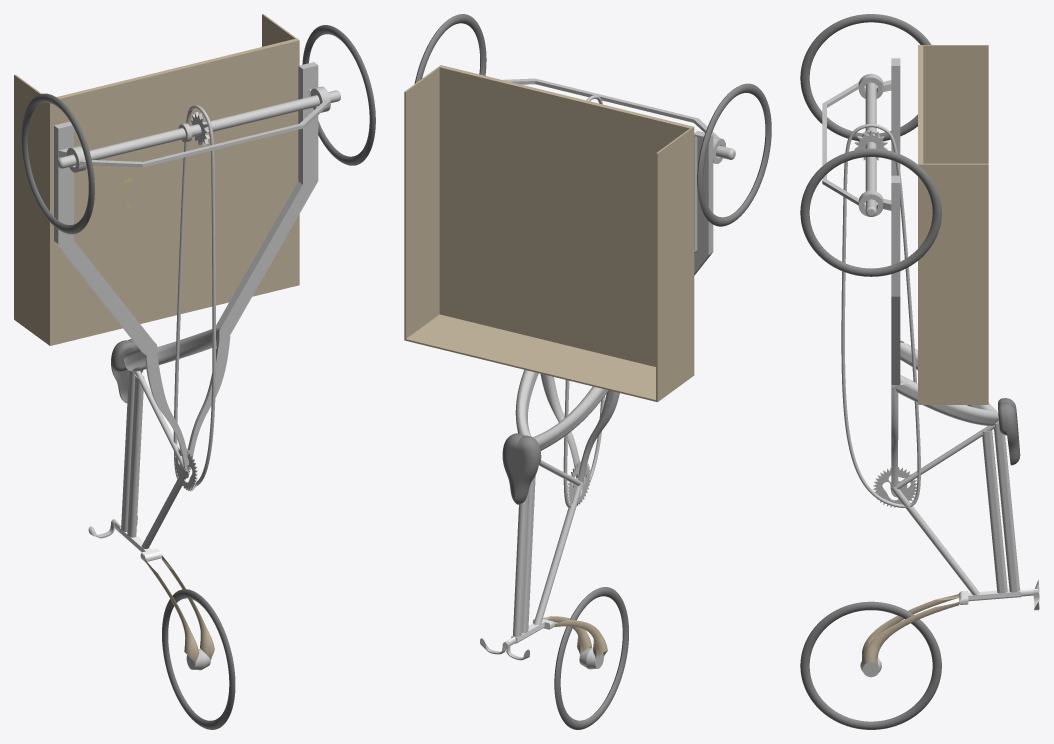
Rendered from generic-trike.glb.
3 renders of one model, left to right at view 1: azimuth 30°, elevation 25°; view 2: azimuth 150°, elevation 25°; view 3: azimuth 270°, elevation 25°, orthographic. The views are drawn at different scales.
Parts seen in each view (by area): view 1: Node3, Node1, Node2; view 2: Node3, Node1, Node2; view 3: Node3, Node1, Node2, Node4.
Part boxes in pixels (x1,y1,x2,y2): Node3: (14, 14, 299, 664); Node1: (54, 62, 340, 670); Node2: (21, 25, 375, 729); Node3: (404, 65, 694, 658); Node1: (480, 78, 735, 669); Node2: (414, 14, 771, 729); Node3: (862, 45, 988, 668); Node1: (822, 58, 1039, 677); Node2: (800, 14, 1020, 729); Node4: (959, 588, 1021, 604).
Bounding box in the file's own units: 183 × 405 × 135.
